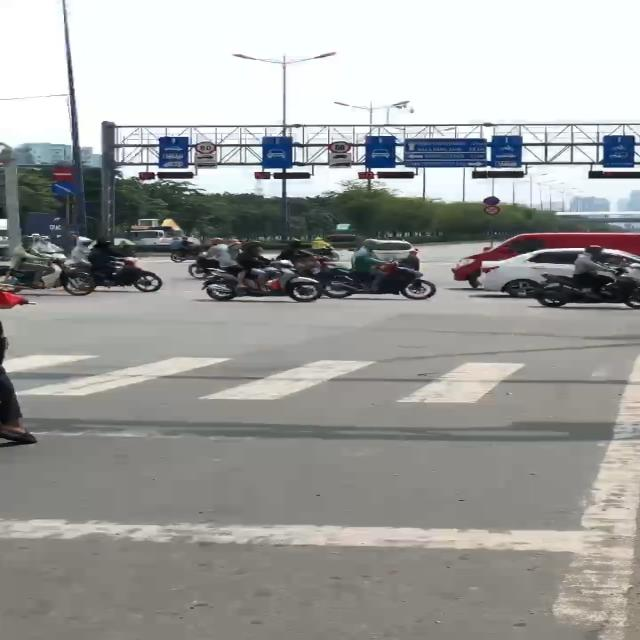Bien bao cam di nguoc chieu: (49, 166, 78, 182)
Bien bao huong phai di vong chuong ngai vat: (49, 180, 78, 198)
Bien bao toc do toi da cho phep: (192, 140, 218, 154)
